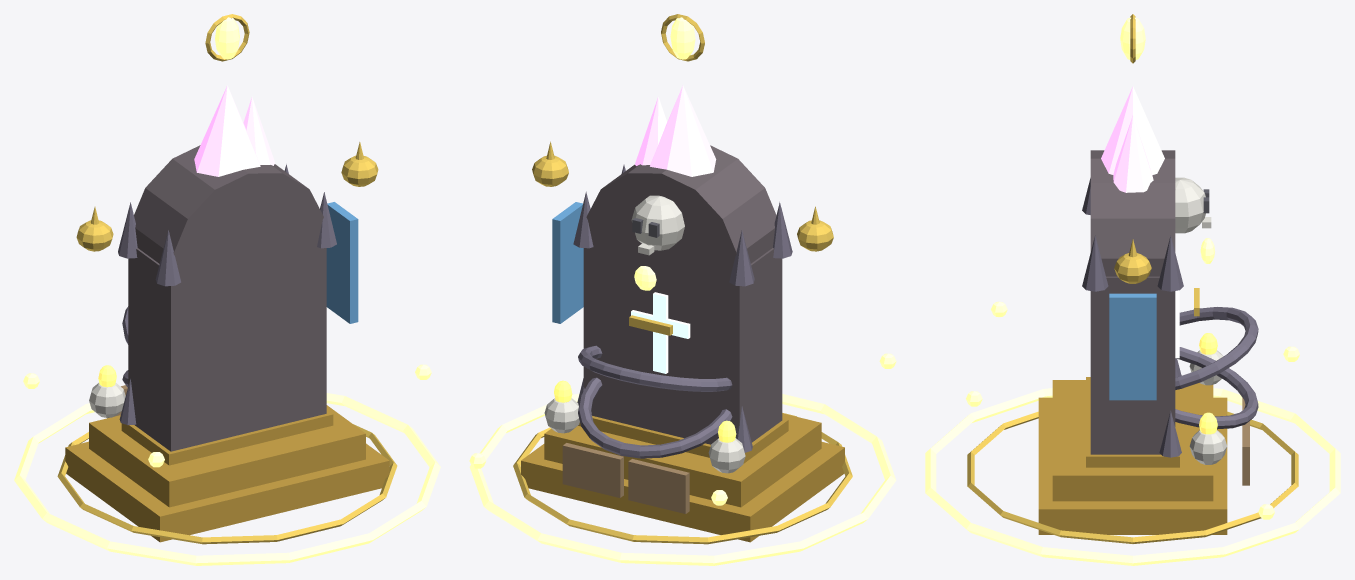
Rendered from hero_tombstone.glb.
The picture shows the model from 3 angles, left to right: view 1: azimuth 30°, elevation 25°; view 2: azimuth 150°, elevation 25°; view 3: azimuth 270°, elevation 25°; orthographic projection.
Visible parts, largest first — view 1: hero_tombstone; view 2: hero_tombstone; view 3: hero_tombstone.
Part boxes in pixels (x1,y1,x2,y2): hero_tombstone: (14, 14, 440, 565); hero_tombstone: (469, 14, 896, 565); hero_tombstone: (925, 14, 1340, 565).
Bounding box in the file's own units: 5.06 × 6.06 × 4.94.
